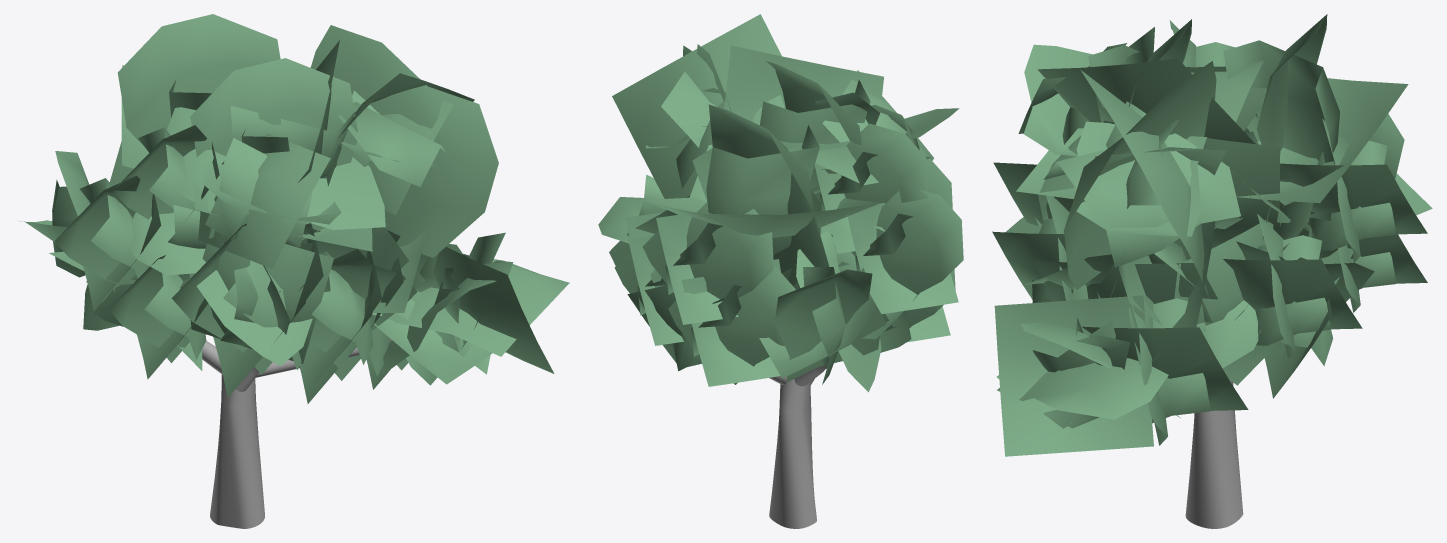
The model's file is Tree.fbx.
3 views of the same model, side by side, from view 1: azimuth 30°, elevation 25°; view 2: azimuth 150°, elevation 25°; view 3: azimuth 270°, elevation 25° (orthographic). The views are drawn at different scales.
Visible parts, largest first — view 1: Tree; view 2: Tree; view 3: Tree.
Boxes of the visible parts, x1=… form: Tree: x1=20, y1=14, x2=569, y2=528; Tree: x1=598, y1=14, x2=963, y2=528; Tree: x1=992, y1=14, x2=1432, y2=528.
Bounding box in the file's own units: 682 × 697 × 553.
